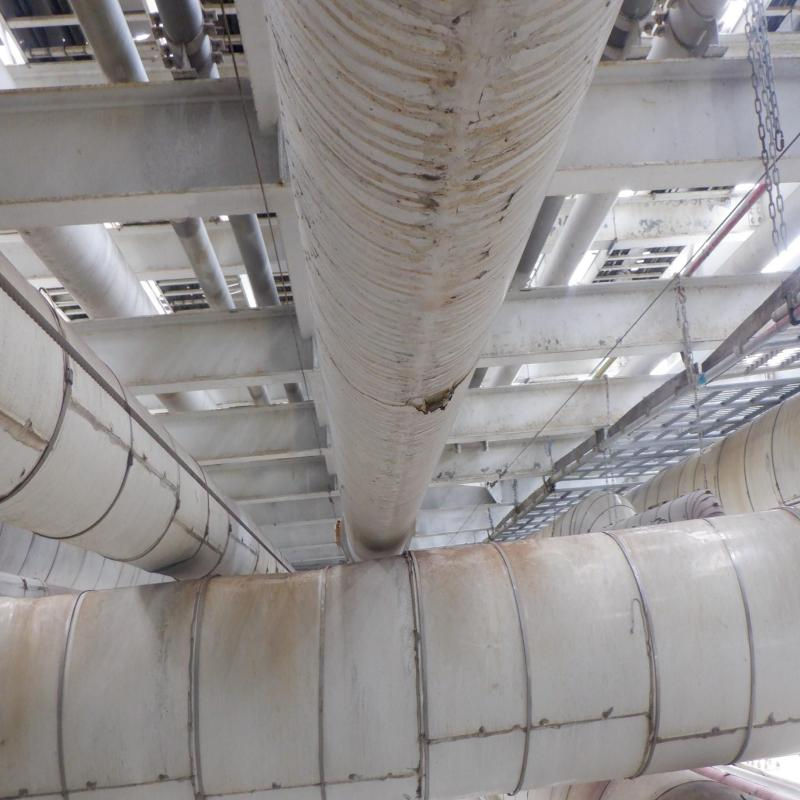corrosion: (422, 390, 452, 420)
